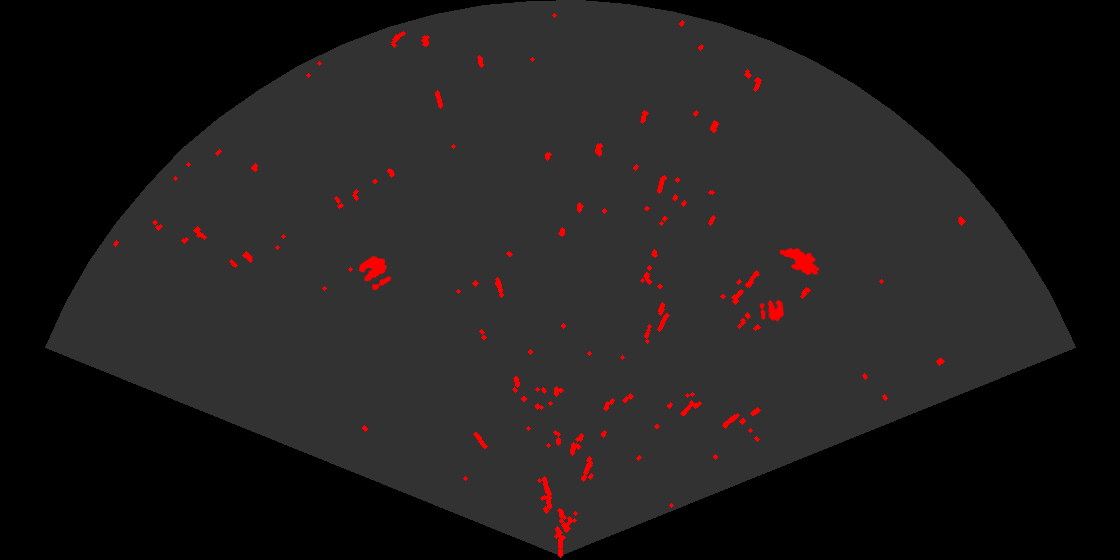AUV: (778, 246, 821, 277)
ball: (357, 254, 393, 292), (758, 298, 786, 323)
